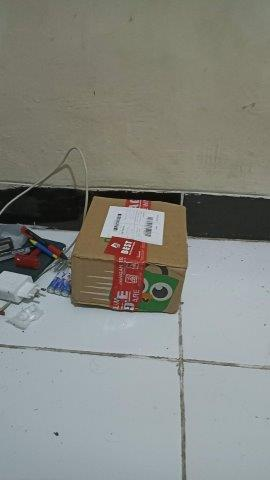kardus: (71, 197, 188, 312)
